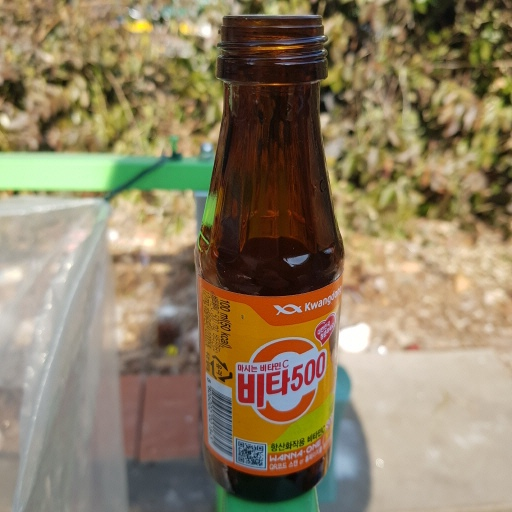Glass_3: (194, 11, 351, 502)
